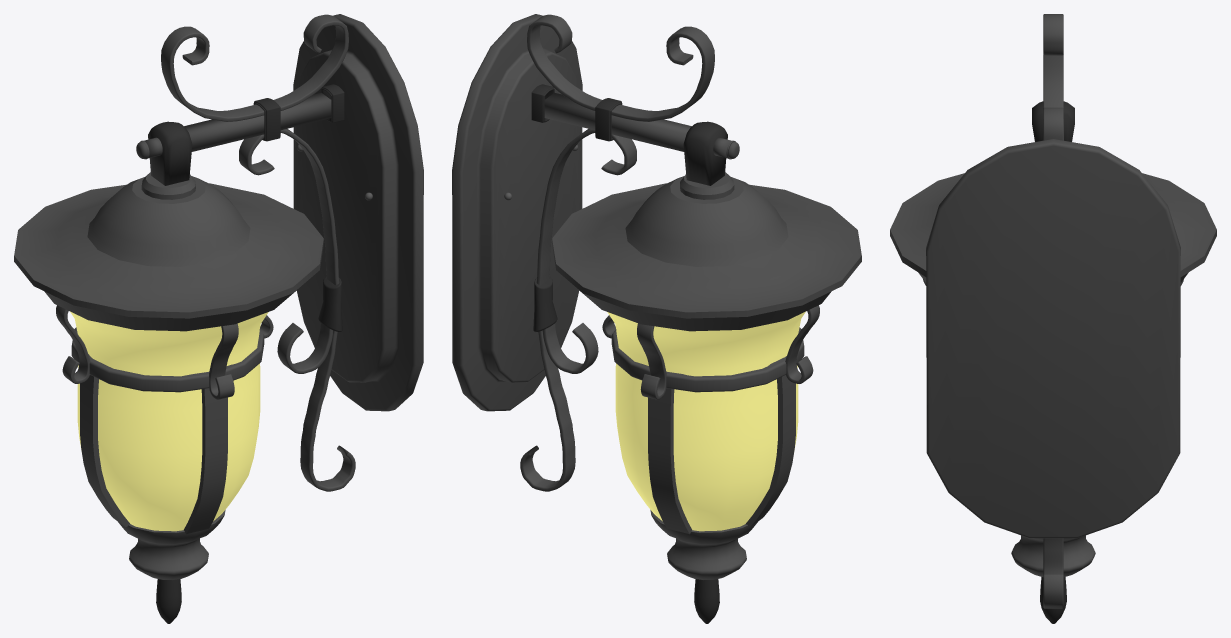
The model's file is light.glb.
3 renders of one model, left to right at view 1: azimuth 30°, elevation 25°; view 2: azimuth 150°, elevation 25°; view 3: azimuth 270°, elevation 25°, orthographic. The views are drawn at different scales.
Parts seen in each view (by area): view 1: Cylinder, Sphere, Cylinder.001; view 2: Cylinder, Sphere, Cylinder.001; view 3: Sphere, Cylinder, Cylinder.001.
Part boxes in pixels (x1,y1,x2,y2): Cylinder: (14,172,323,623); Sphere: (136,14,423,411); Cylinder.001: (56,14,355,491); Cylinder: (552,172,861,623); Sphere: (452,14,739,411); Cylinder.001: (520,14,819,491); Sphere: (926,101,1180,538); Cylinder: (890,173,1216,623); Cylinder.001: (923,14,1183,608).
Bounding box in the file's own units: 7.21 × 12.27 × 5.9.
4 materials, 4 textured.
